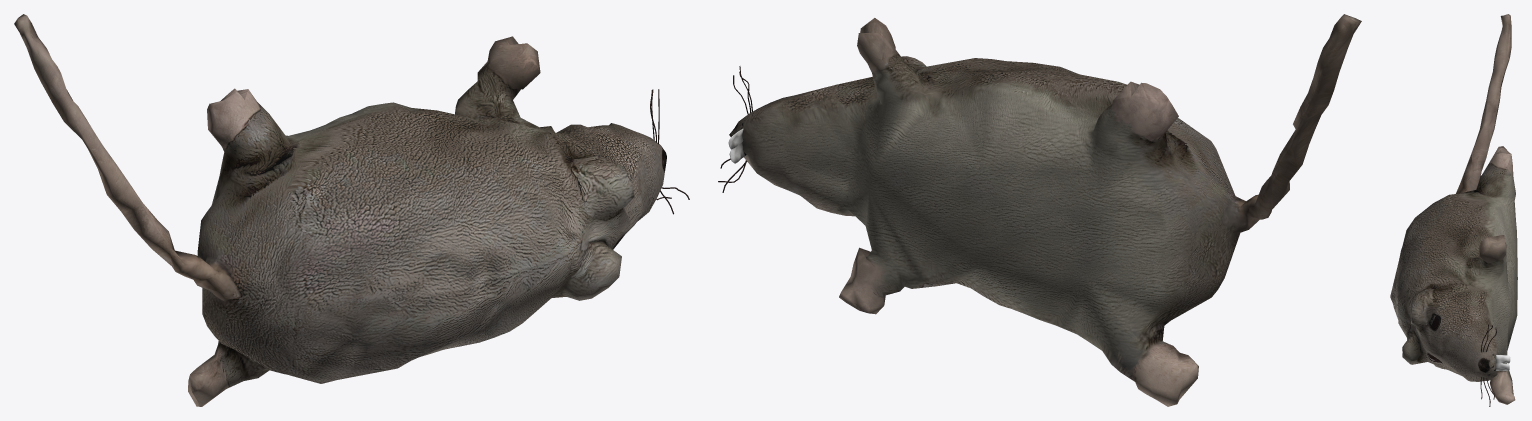
File: IKEA_rat.fbx
The picture shows the model from 3 angles, left to right: view 1: azimuth 30°, elevation 25°; view 2: azimuth 150°, elevation 25°; view 3: azimuth 270°, elevation 25°; orthographic projection. The views are drawn at different scales.
Visible parts, largest first — view 1: Rat.002; view 2: Rat.002; view 3: Rat.002.
Part boxes in pixels (x1,y1,x2,y2): Rat.002: (14,14,689,406); Rat.002: (718,14,1361,406); Rat.002: (1390,14,1517,406).
Size of the model in its own units: 30.16 by 19.1 by 8.47.
